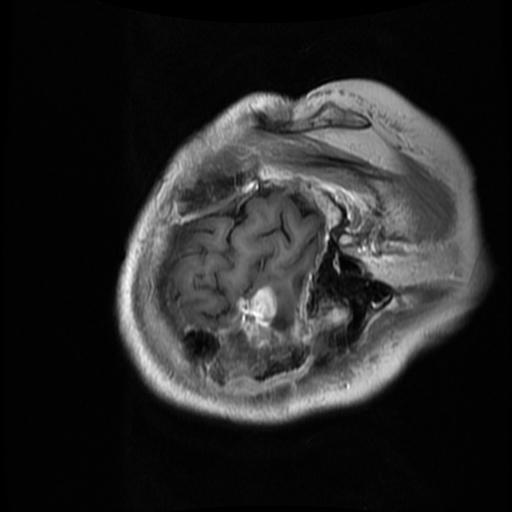glioma: (239, 286, 283, 349)
